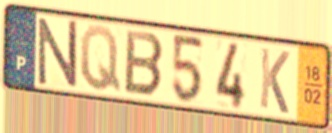4: (213, 39, 248, 112)
5: (170, 31, 206, 108)
B: (122, 27, 167, 100)
K: (257, 45, 291, 117)
N: (36, 17, 79, 91)
Q: (79, 24, 123, 95)
